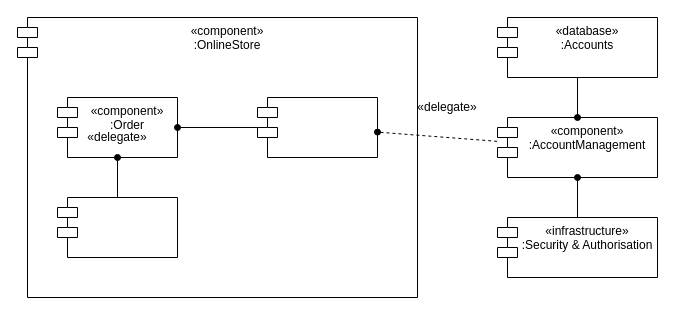
Some shapes in this 675 by 315 pixel diagram are drawn without their labels. The centre of each missing label's shape, as x and y in pixels:
«component» :Customer: point 317,127
«component» :Product: point 117,227
